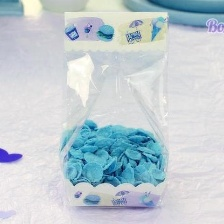snack: (54, 5, 175, 217)
